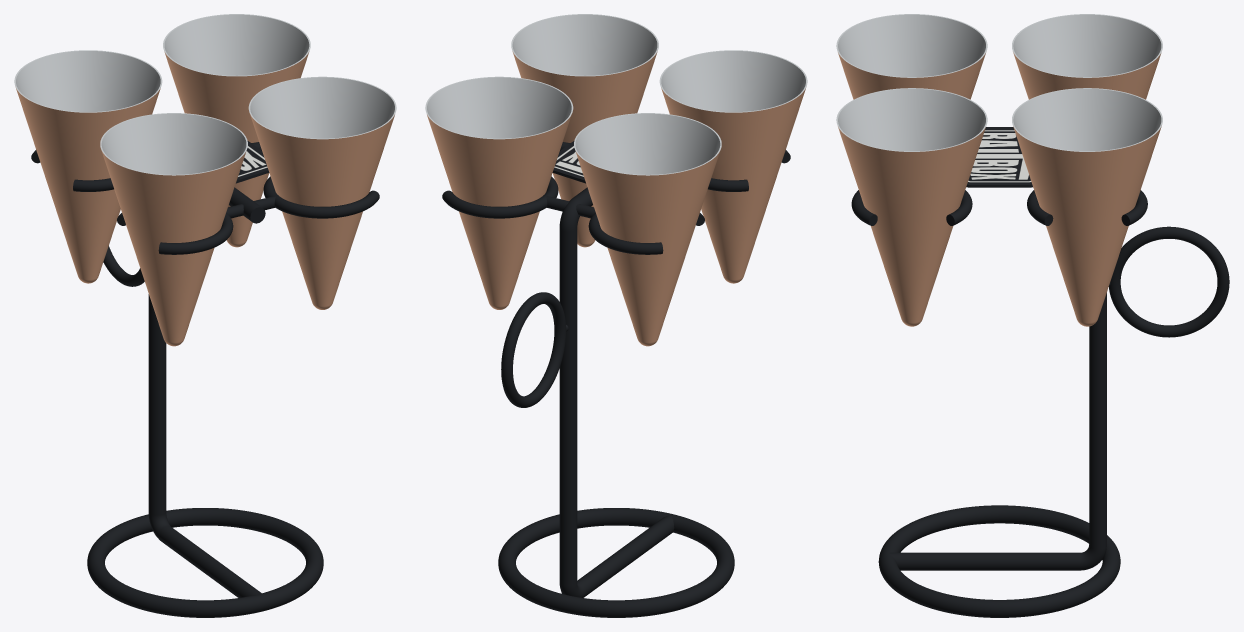
File: strutstall-v2.glb
3 renders of one model, left to right at view 1: azimuth 30°, elevation 25°; view 2: azimuth 150°, elevation 25°; view 3: azimuth 270°, elevation 25°, orthographic. The views are drawn at different scales.
Visible parts, largest first — view 1: cups_1, cups_2, cups_3, cups_4, frame_1, frame_3, frame_6, frame_5, frame_2, badge_1, frame_8; view 2: cups_3, cups_4, cups_1, cups_2, frame_3, frame_1, frame_2, frame_9, frame_8, frame_5, badge_1; view 3: cups_2, cups_4, cups_1, cups_3, frame_1, frame_3, frame_2, badge_2, badge_1, frame_6, frame_9.
Part boxes in pixels (x1,y1,x2,y2): cups_1: (100, 113, 247, 346); cups_2: (248, 76, 396, 309); cups_3: (14, 50, 162, 283); cups_4: (163, 14, 310, 247); frame_1: (87, 508, 323, 617); frame_3: (148, 187, 265, 597); frame_6: (263, 176, 379, 218); frame_5: (117, 212, 233, 254); frame_2: (103, 246, 144, 286); badge_1: (236, 141, 269, 183); frame_8: (31, 150, 113, 191); cups_3: (574, 113, 721, 346); cups_4: (425, 76, 573, 309); cups_1: (659, 50, 807, 283); cups_2: (511, 14, 658, 247); frame_3: (559, 187, 674, 597); frame_1: (498, 508, 734, 617); frame_2: (501, 292, 566, 407); frame_9: (442, 176, 558, 218); frame_8: (588, 212, 704, 254); frame_5: (708, 150, 790, 191); badge_1: (552, 141, 585, 183); cups_2: (836, 88, 987, 326); cups_4: (1012, 88, 1162, 326); cups_1: (836, 14, 987, 99); cups_3: (1012, 14, 1162, 99); frame_1: (878, 505, 1120, 617); frame_3: (889, 293, 1106, 570); frame_2: (1109, 226, 1229, 337); badge_2: (968, 130, 1031, 182); badge_1: (966, 127, 1032, 187); frame_6: (851, 190, 972, 225); frame_9: (1027, 190, 1147, 225).
Size of the model in its own units: 0.108 by 0.1777 by 0.13.
6 materials, 1 textured.
